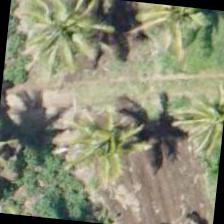Kelapa_Sawit: (60, 96, 159, 196), (21, 0, 120, 79), (124, 2, 220, 72), (167, 74, 223, 171)
